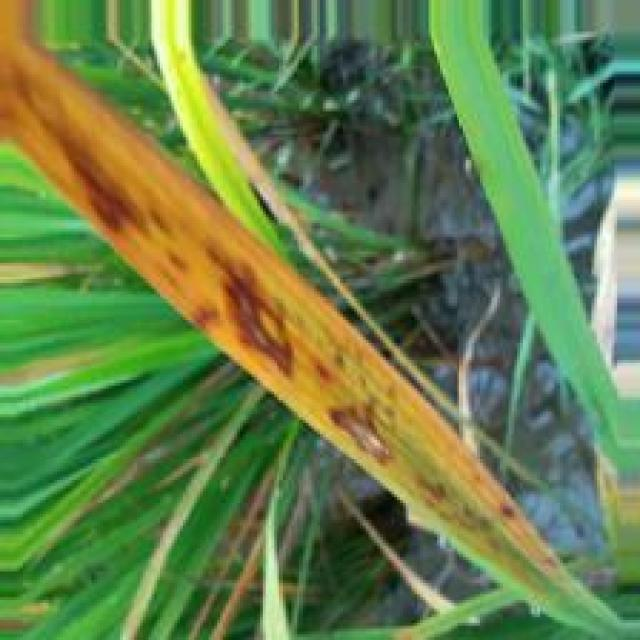Narrow_Brown_Leaf_Spot: (0, 0, 565, 600)
